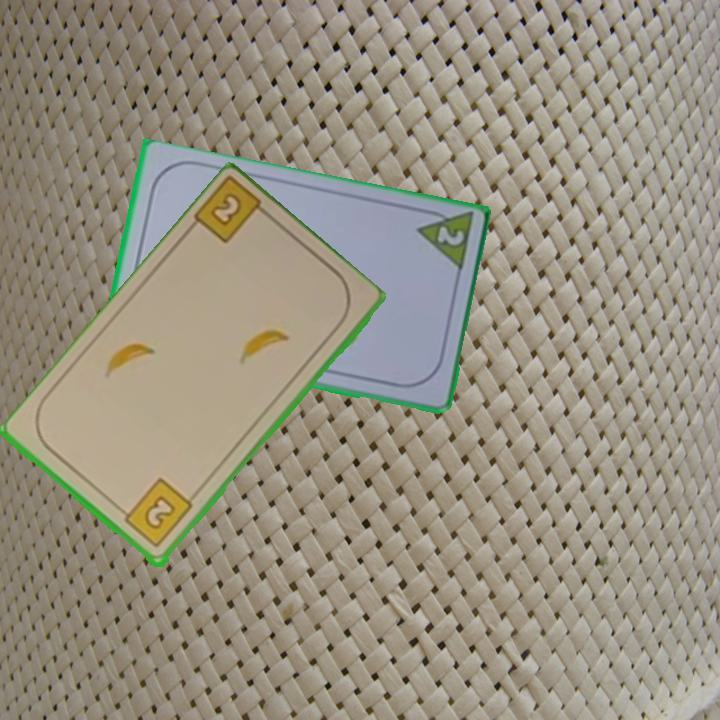2b: (115, 475, 196, 551), (190, 176, 276, 247)
2p: (411, 205, 476, 276)
